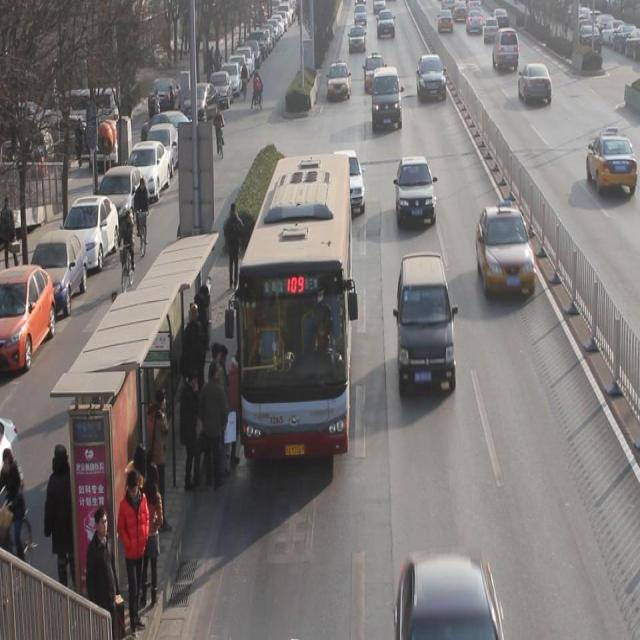car: (396, 551, 505, 640), (476, 202, 537, 296), (586, 128, 640, 198), (395, 154, 437, 226), (330, 148, 365, 212), (518, 60, 552, 105), (417, 52, 447, 102), (329, 58, 351, 100), (365, 51, 384, 92), (348, 22, 366, 54), (484, 17, 499, 41)
truck: (397, 252, 456, 393), (372, 65, 402, 129), (493, 27, 519, 70)
van: (238, 153, 351, 455)
